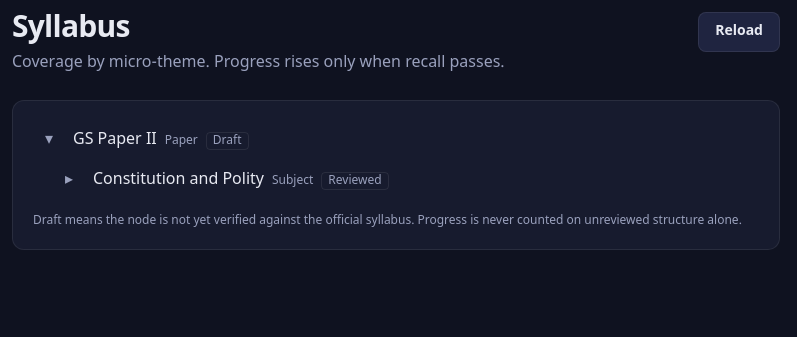
Test case: Syllabus screen › reload calls POST /syllabus/reload and shows validation errors
The image size is (797, 337).
Expected: the list is shown, [33, 125, 389, 197]
What coordinates should you click on to do the following:
click the button with aria-label "reload syllabus files"
I would click on:
 (739, 32)
Its box is [698, 12, 780, 52].
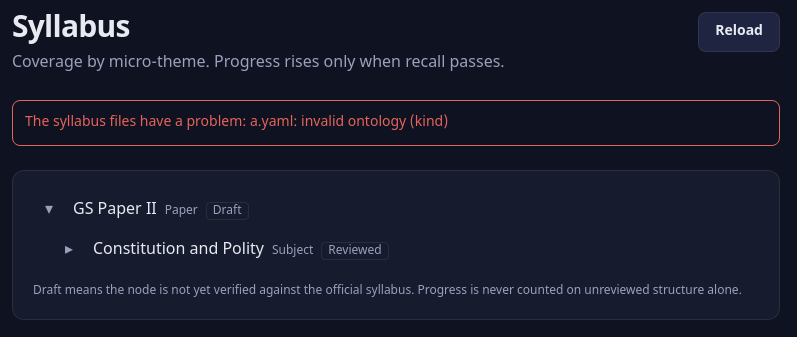
Result: the message shows "invalid ontology" at [25, 113, 448, 132]
